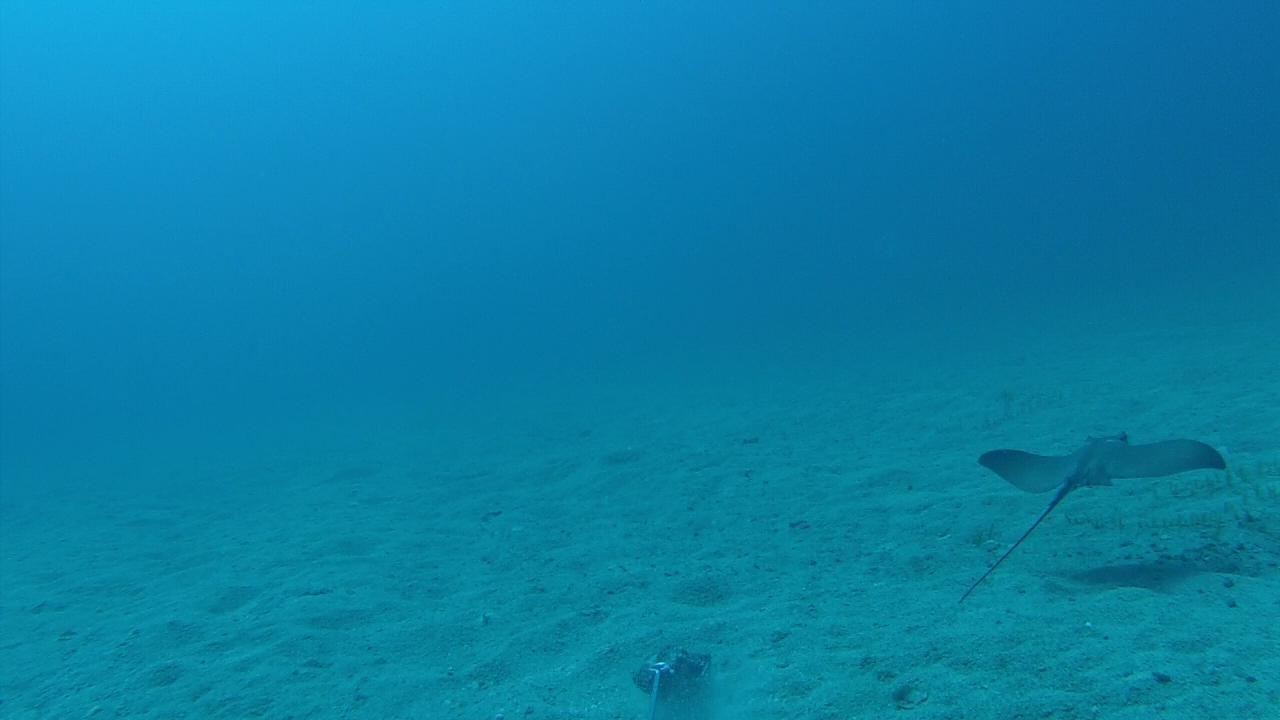dasyatis: (954, 428, 1226, 606)
